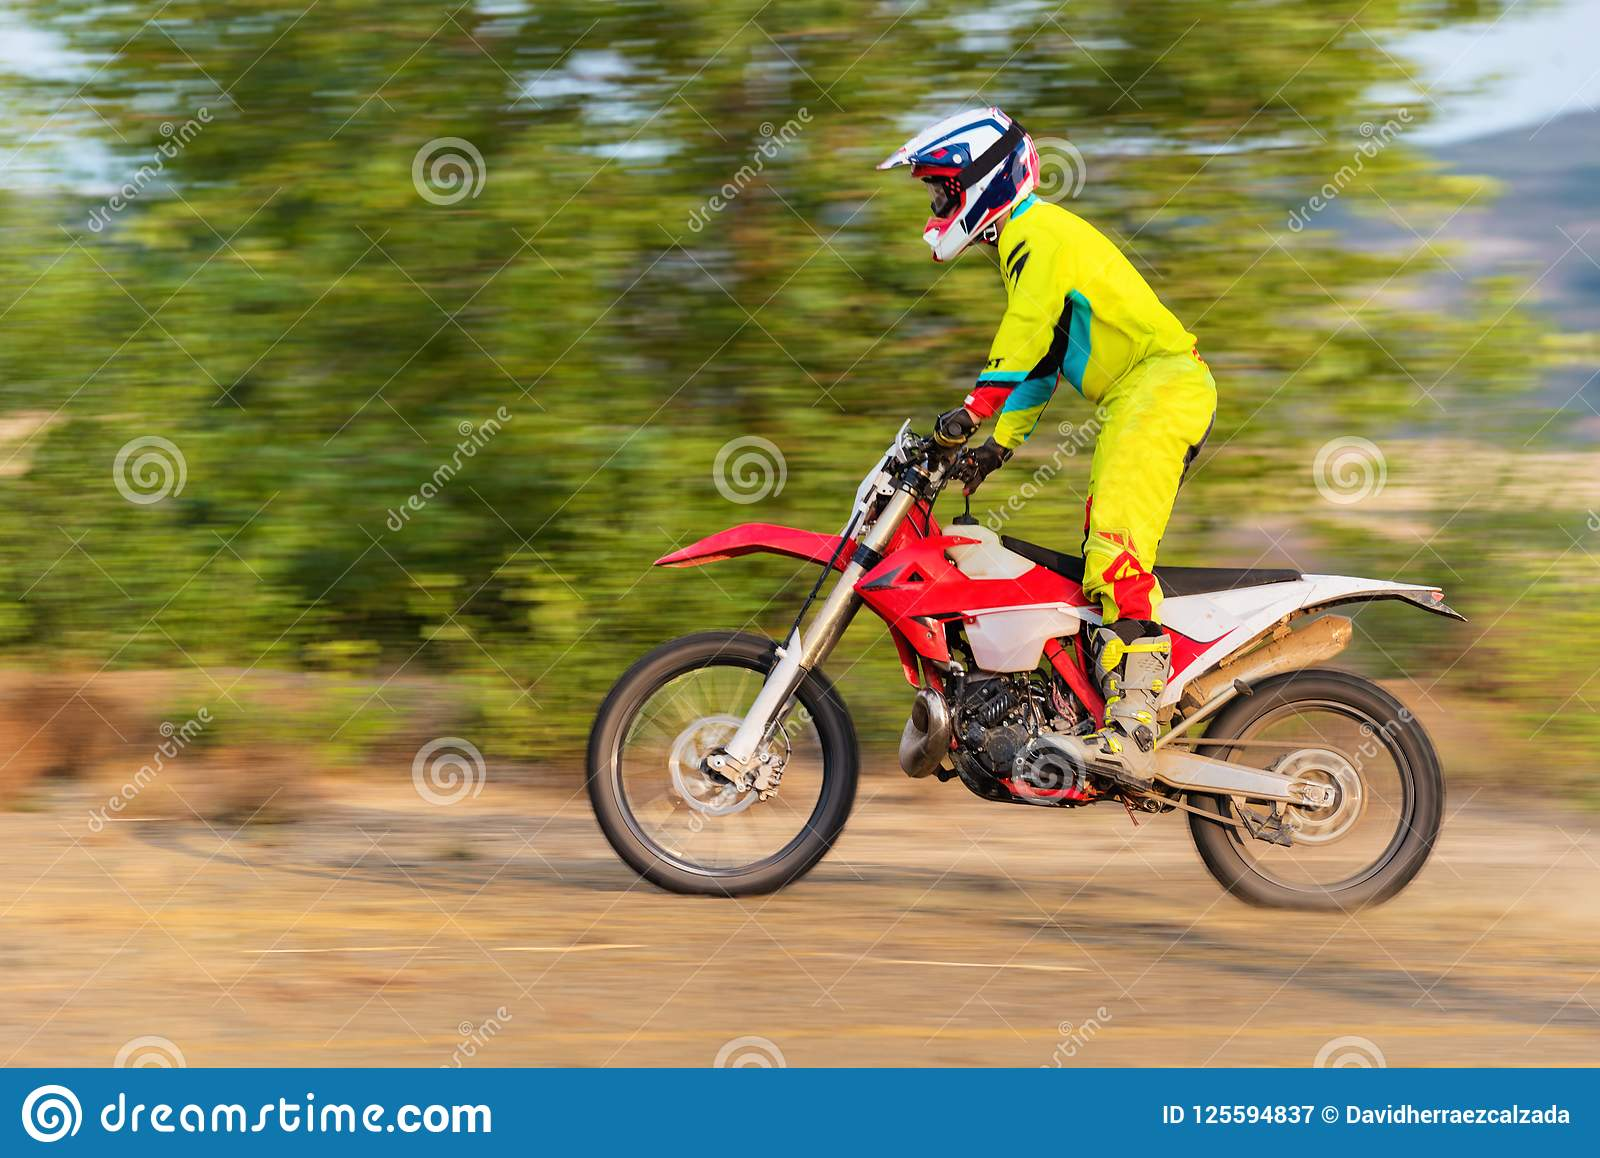helmet: (903, 103, 1035, 256)
